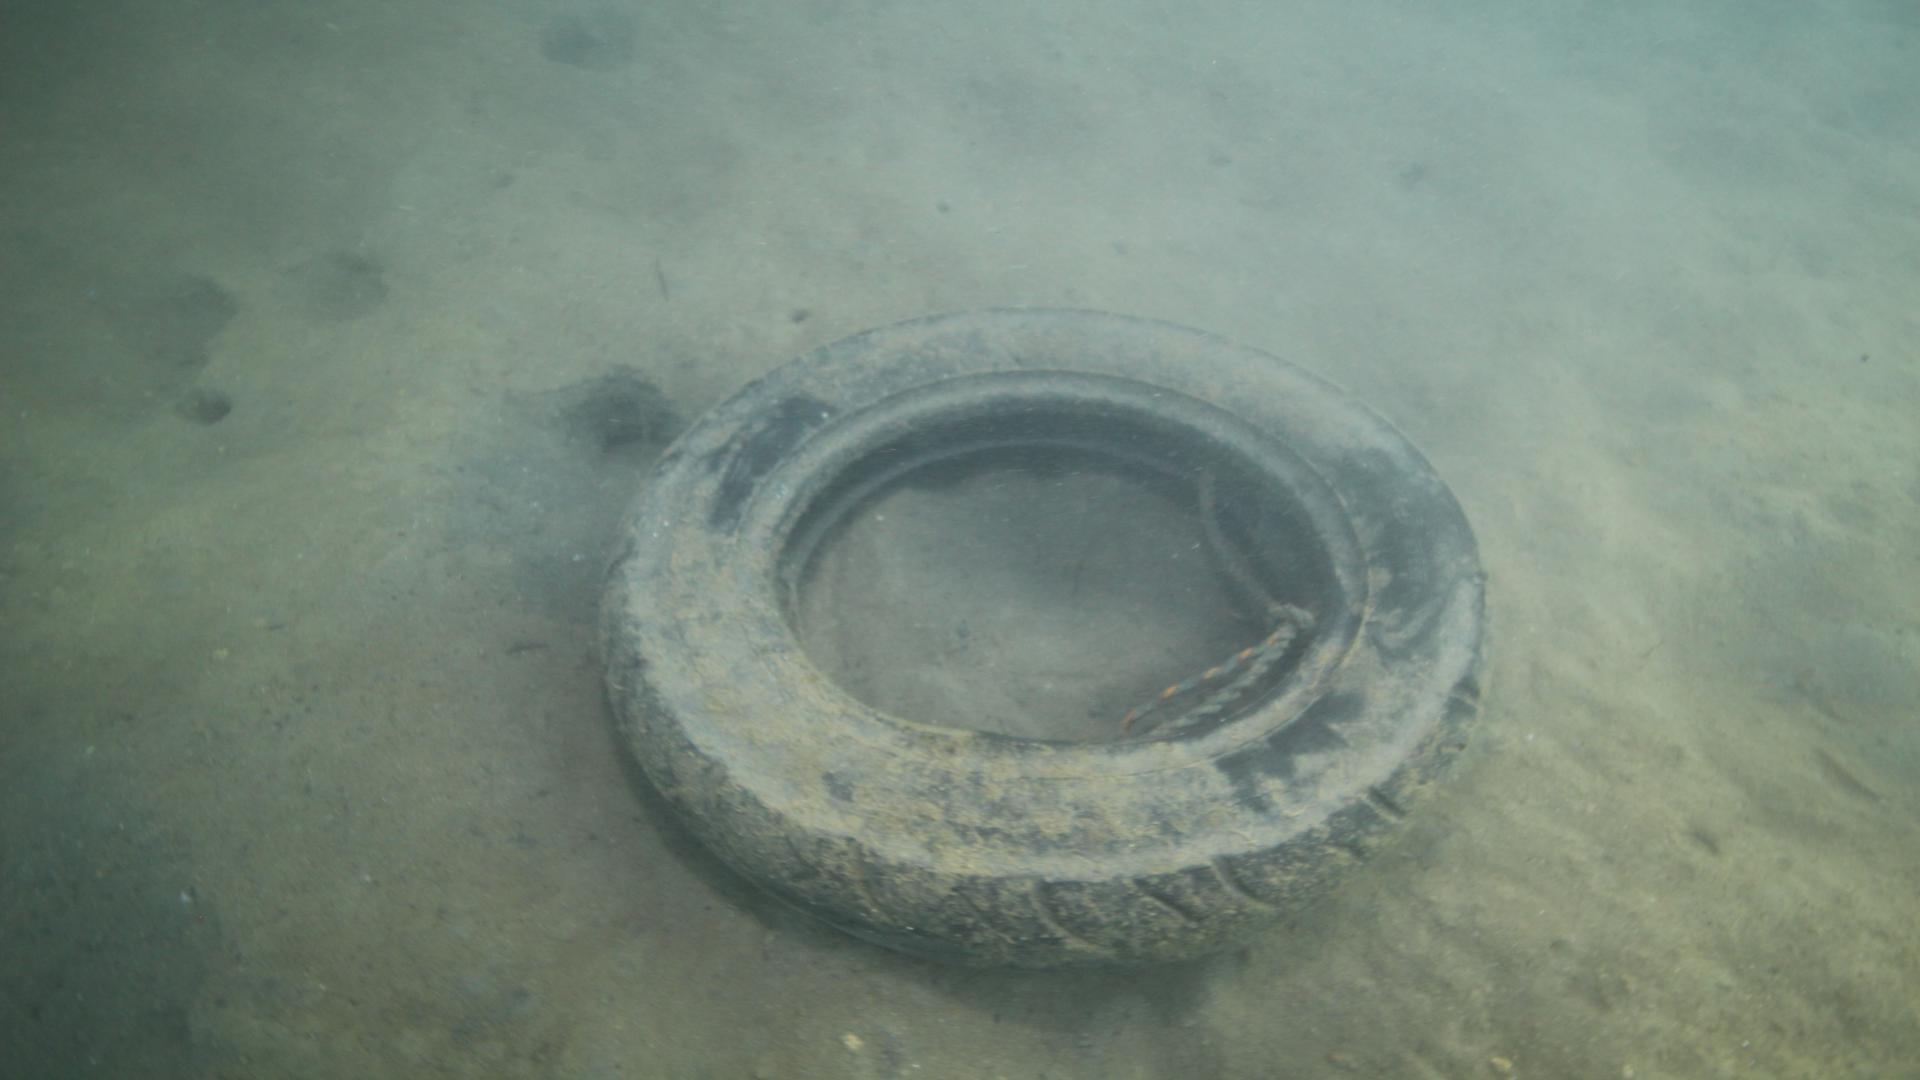rope: (1141, 464, 1313, 737)
tire: (589, 301, 1491, 976)
